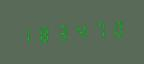eight: (35, 22, 52, 45)
four: (72, 20, 89, 42)
one: (17, 23, 34, 46)
seven: (90, 18, 107, 41)
three: (54, 21, 71, 44)
zero: (108, 17, 125, 40)
